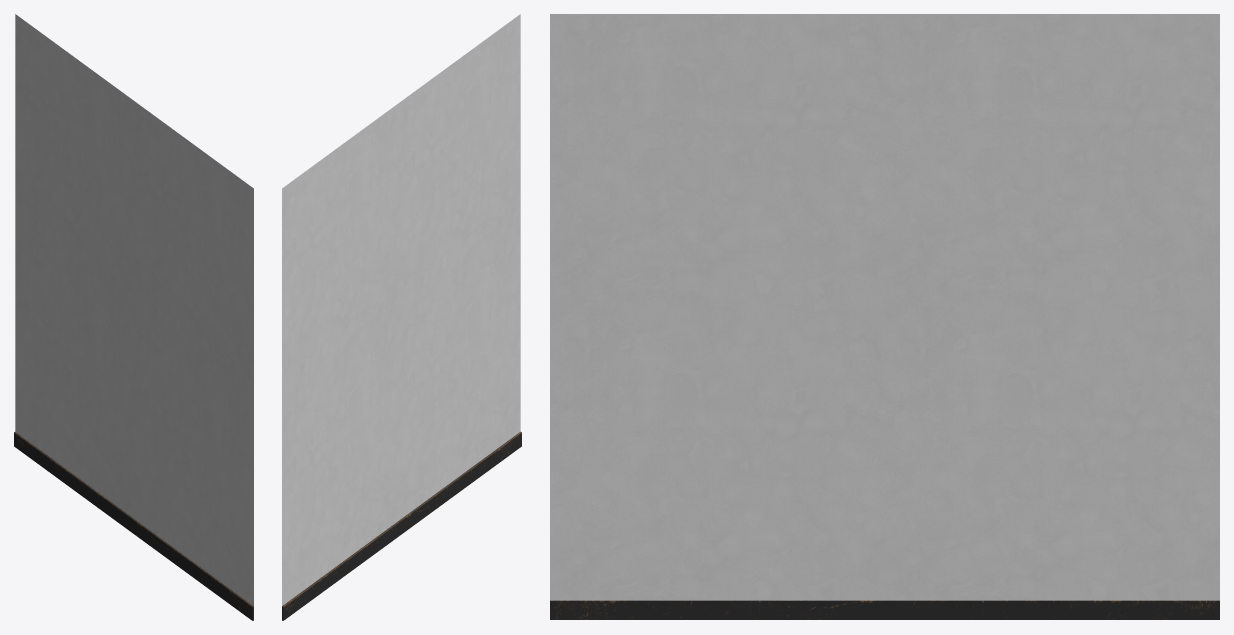
File: SM_InteriorWall_01_300.fbx
3 views of the same model, side by side, from view 1: azimuth 30°, elevation 25°; view 2: azimuth 150°, elevation 25°; view 3: azimuth 270°, elevation 25° (orthographic). The views are drawn at different scales.
Visible parts, largest first — view 1: SM_InteriorWall_01_300_LOD0; view 2: SM_InteriorWall_01_300_LOD0; view 3: SM_InteriorWall_01_300_LOD0.
Part boxes in pixels (<box>): SM_InteriorWall_01_300_LOD0: <box>14,14,253,620</box>; SM_InteriorWall_01_300_LOD0: <box>282,14,521,620</box>; SM_InteriorWall_01_300_LOD0: <box>550,14,1219,619</box>.
Bounding box in the file's own units: 1 × 300 × 300.
